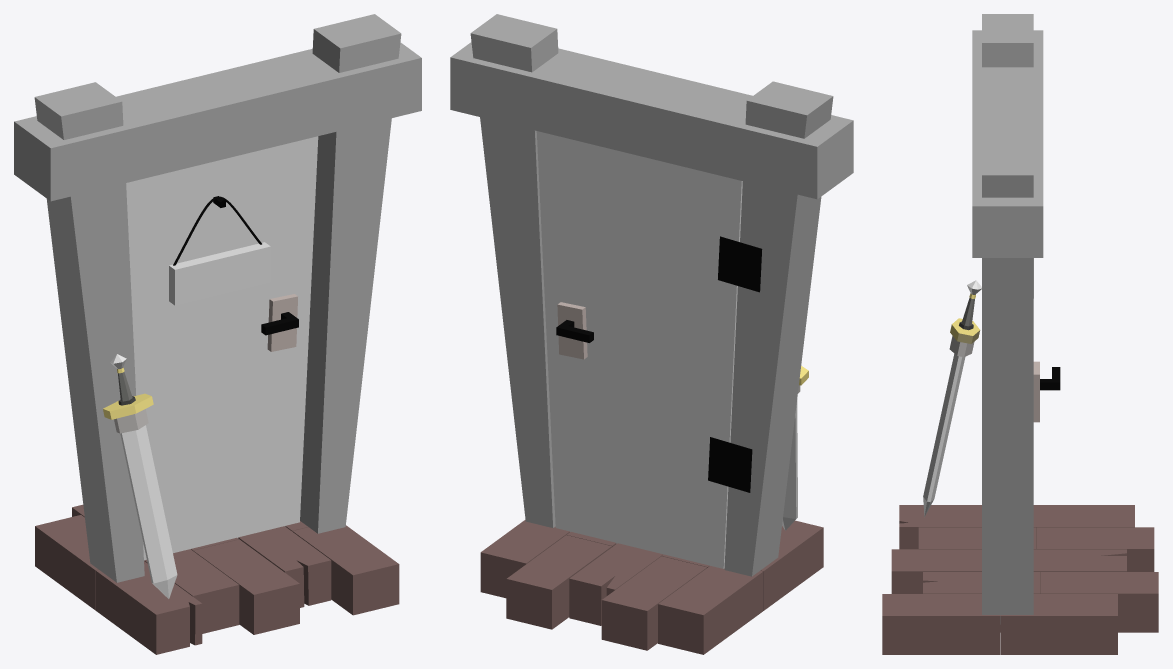
The model's file is door_floor_sword.fbx.
3 views of the same model, side by side, from view 1: azimuth 30°, elevation 25°; view 2: azimuth 150°, elevation 25°; view 3: azimuth 270°, elevation 25° (orthographic). The views are drawn at different scales.
Parts seen in each view (by area): view 1: Cube.002, Cube, wooden_floor, Cylinder, Cube.004, Cube.003; view 2: Cube.002, Cube, wooden_floor, Cylinder, Cube.003, Plane.001, Plane.003, Plane.002, Plane; view 3: Cube.002, wooden_floor, Cylinder, Cube.003.
Boxes of the visible parts, x1,y1,x2,y2 form: Cube.002: (14,14,421,582); Cube: (126,136,318,560); wooden_floor: (35,504,399,654); Cylinder: (103,354,177,598); Cube.004: (169,242,270,305); Cube.003: (267,294,297,351); Cube.002: (450,14,853,576); Cube: (536,131,742,568); wooden_floor: (480,519,823,654); Cylinder: (782,366,808,530); Cube.003: (557,302,587,359); Plane.001: (729,443,752,492); Plane.003: (708,437,731,486); Plane.002: (739,242,762,292); Plane: (718,236,740,286); Cube.002: (972,14,1043,624); wooden_floor: (882,505,1158,654); Cylinder: (923,280,981,516); Cube.003: (1033,361,1039,422).
Size of the model in its own units: 339 by 454 by 225.
